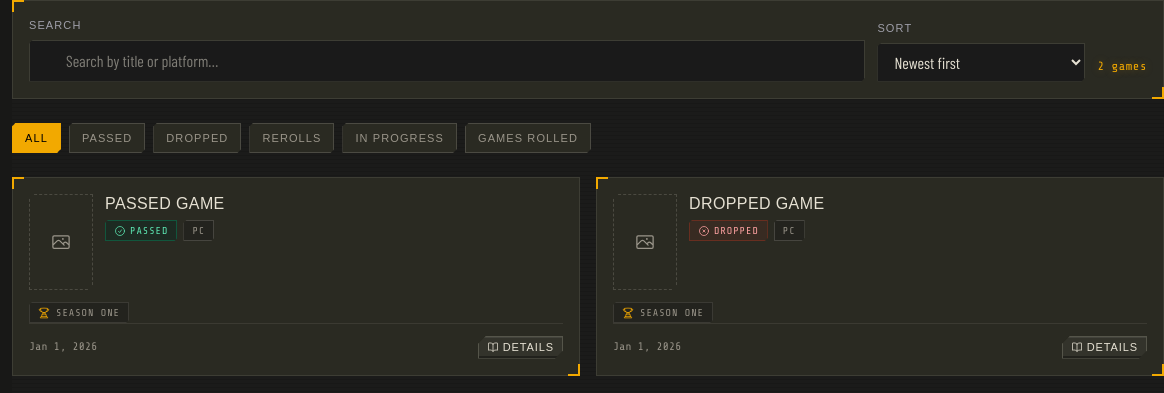
Scenario: PlayerGames › filters by status tab
Click the button "Dropped" at (197, 138), box x1=153 y1=122 x2=241 y2=153
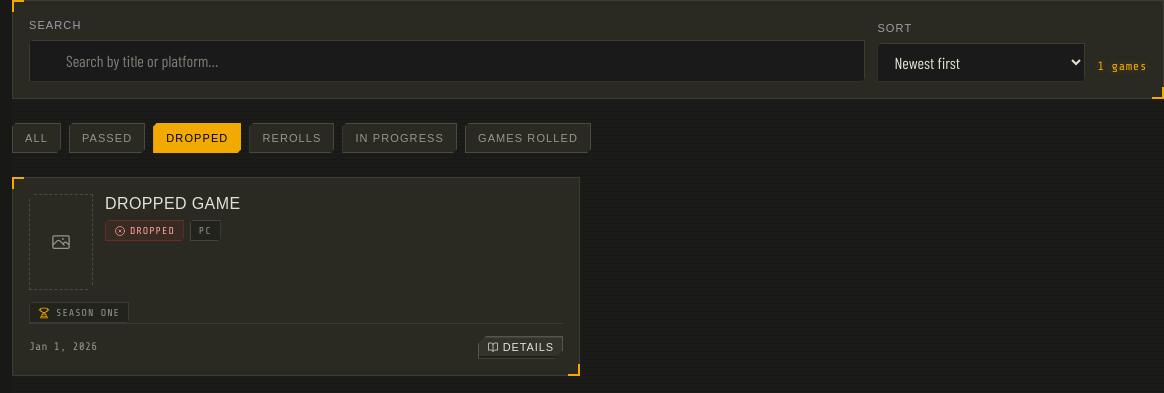
Expected: the heading "Dropped Game" is shown, x1=105 y1=195 x2=240 y2=212
Now the heading "Passed Game" is gone
